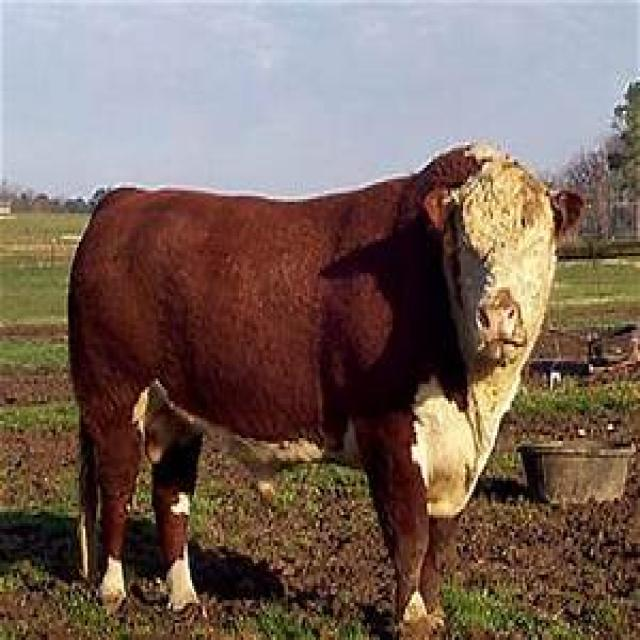cow: (66, 142, 582, 640)
